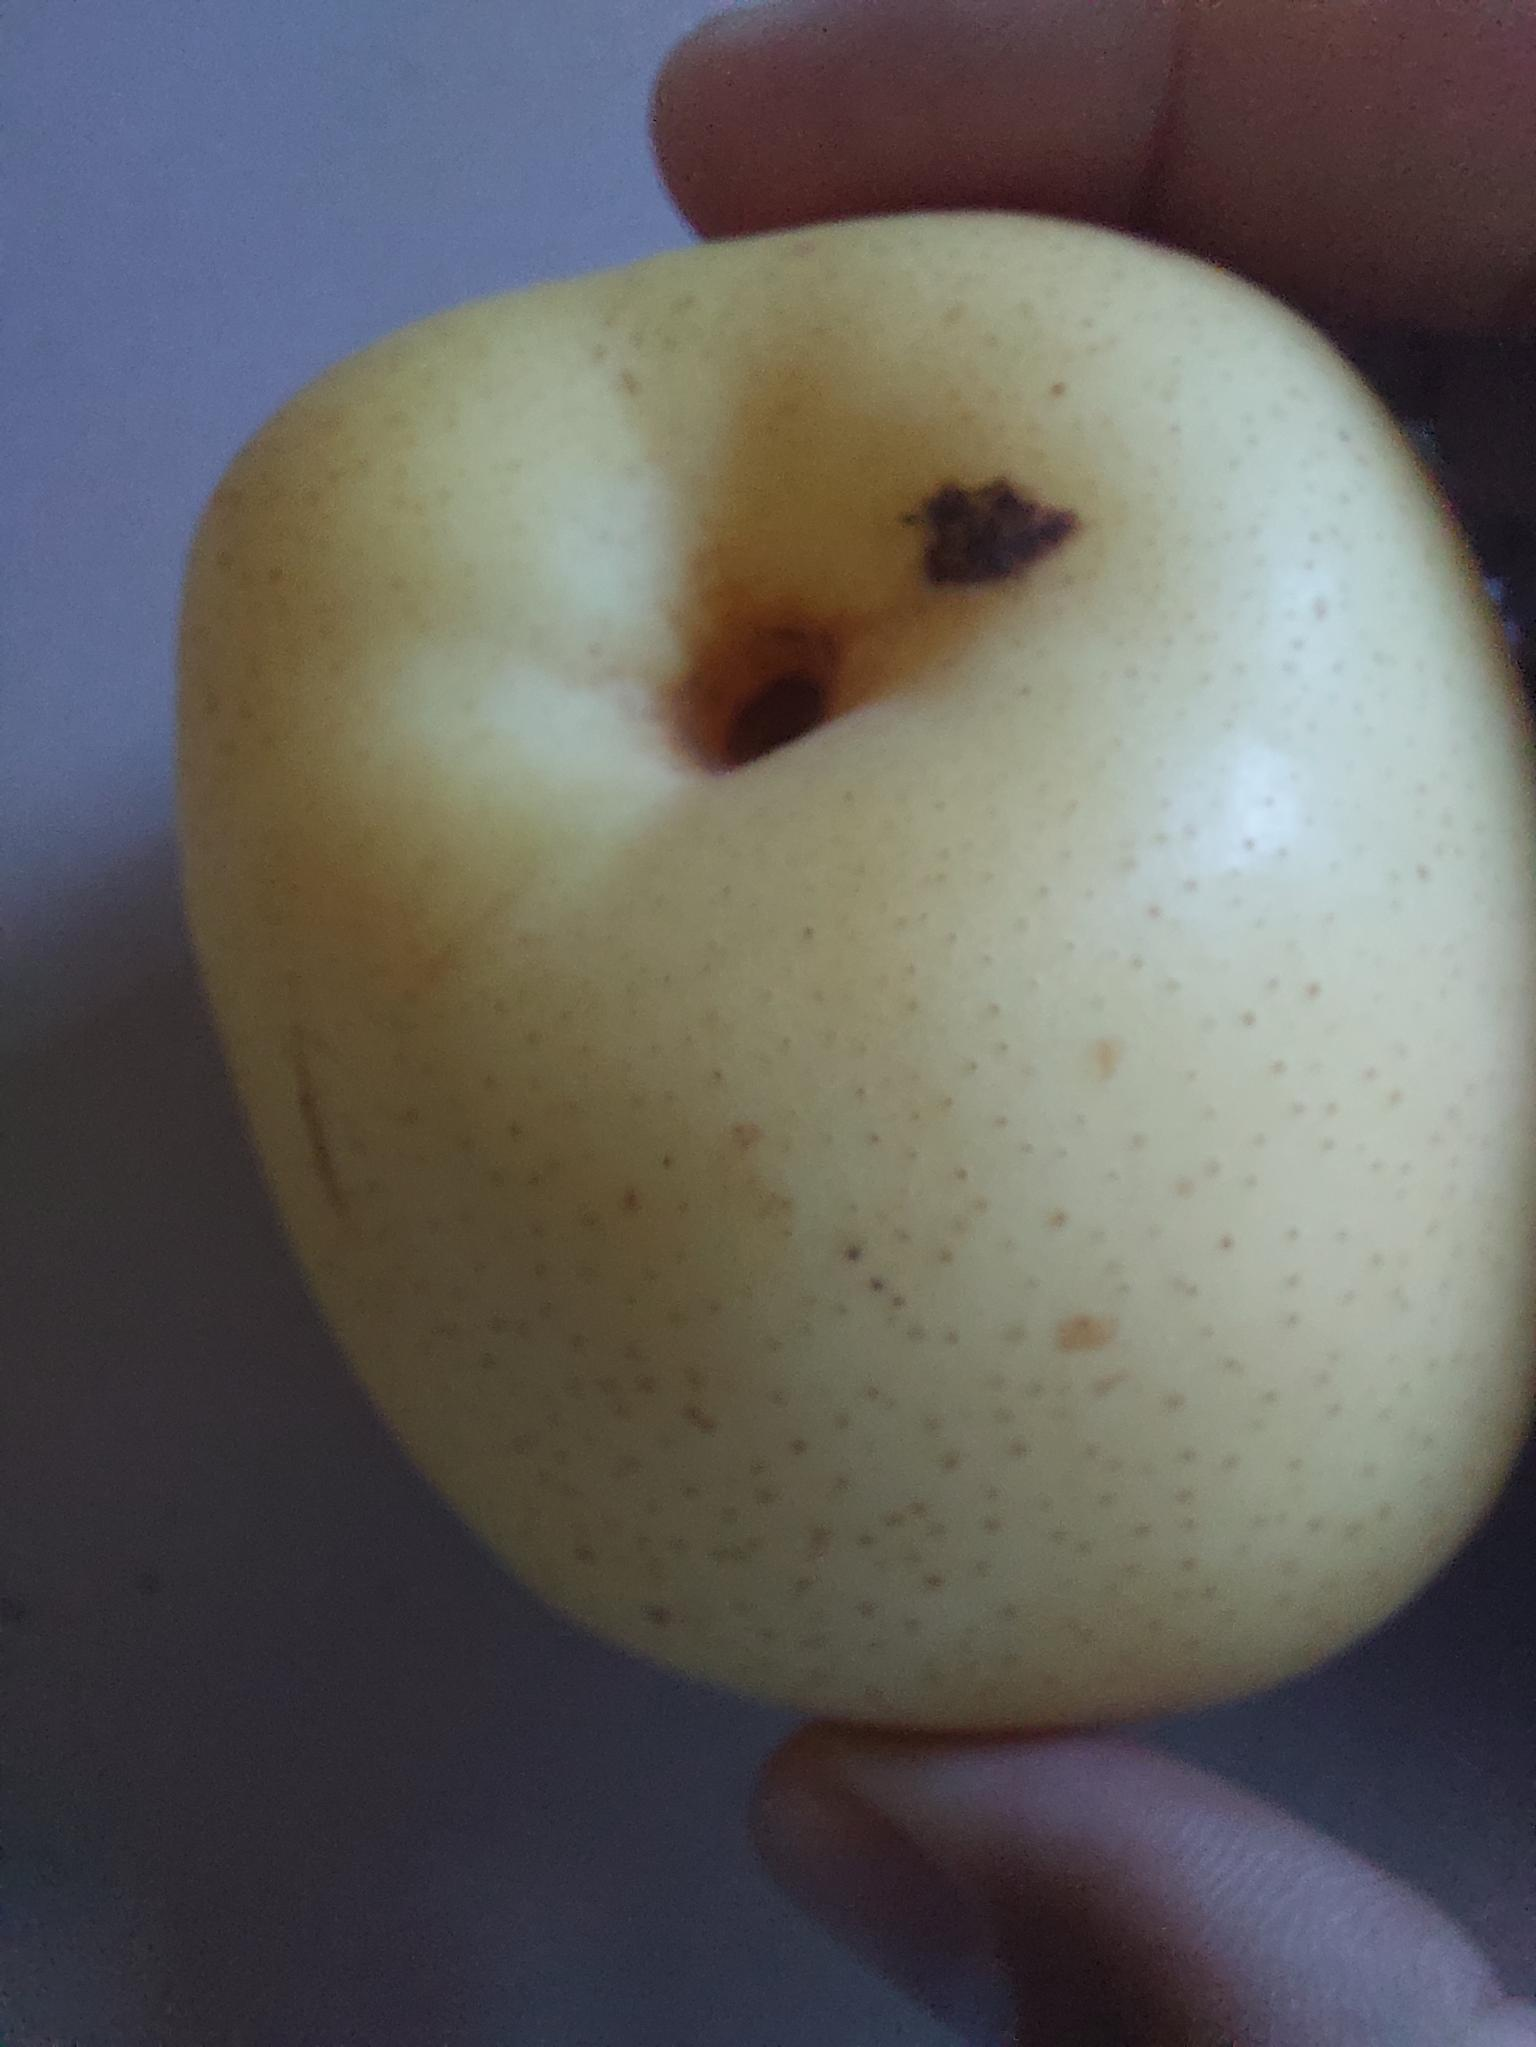Good Pear: (170, 212, 1536, 1730)
